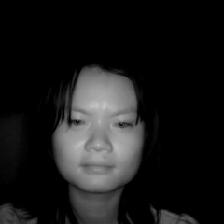normal: (40, 54, 163, 197)
